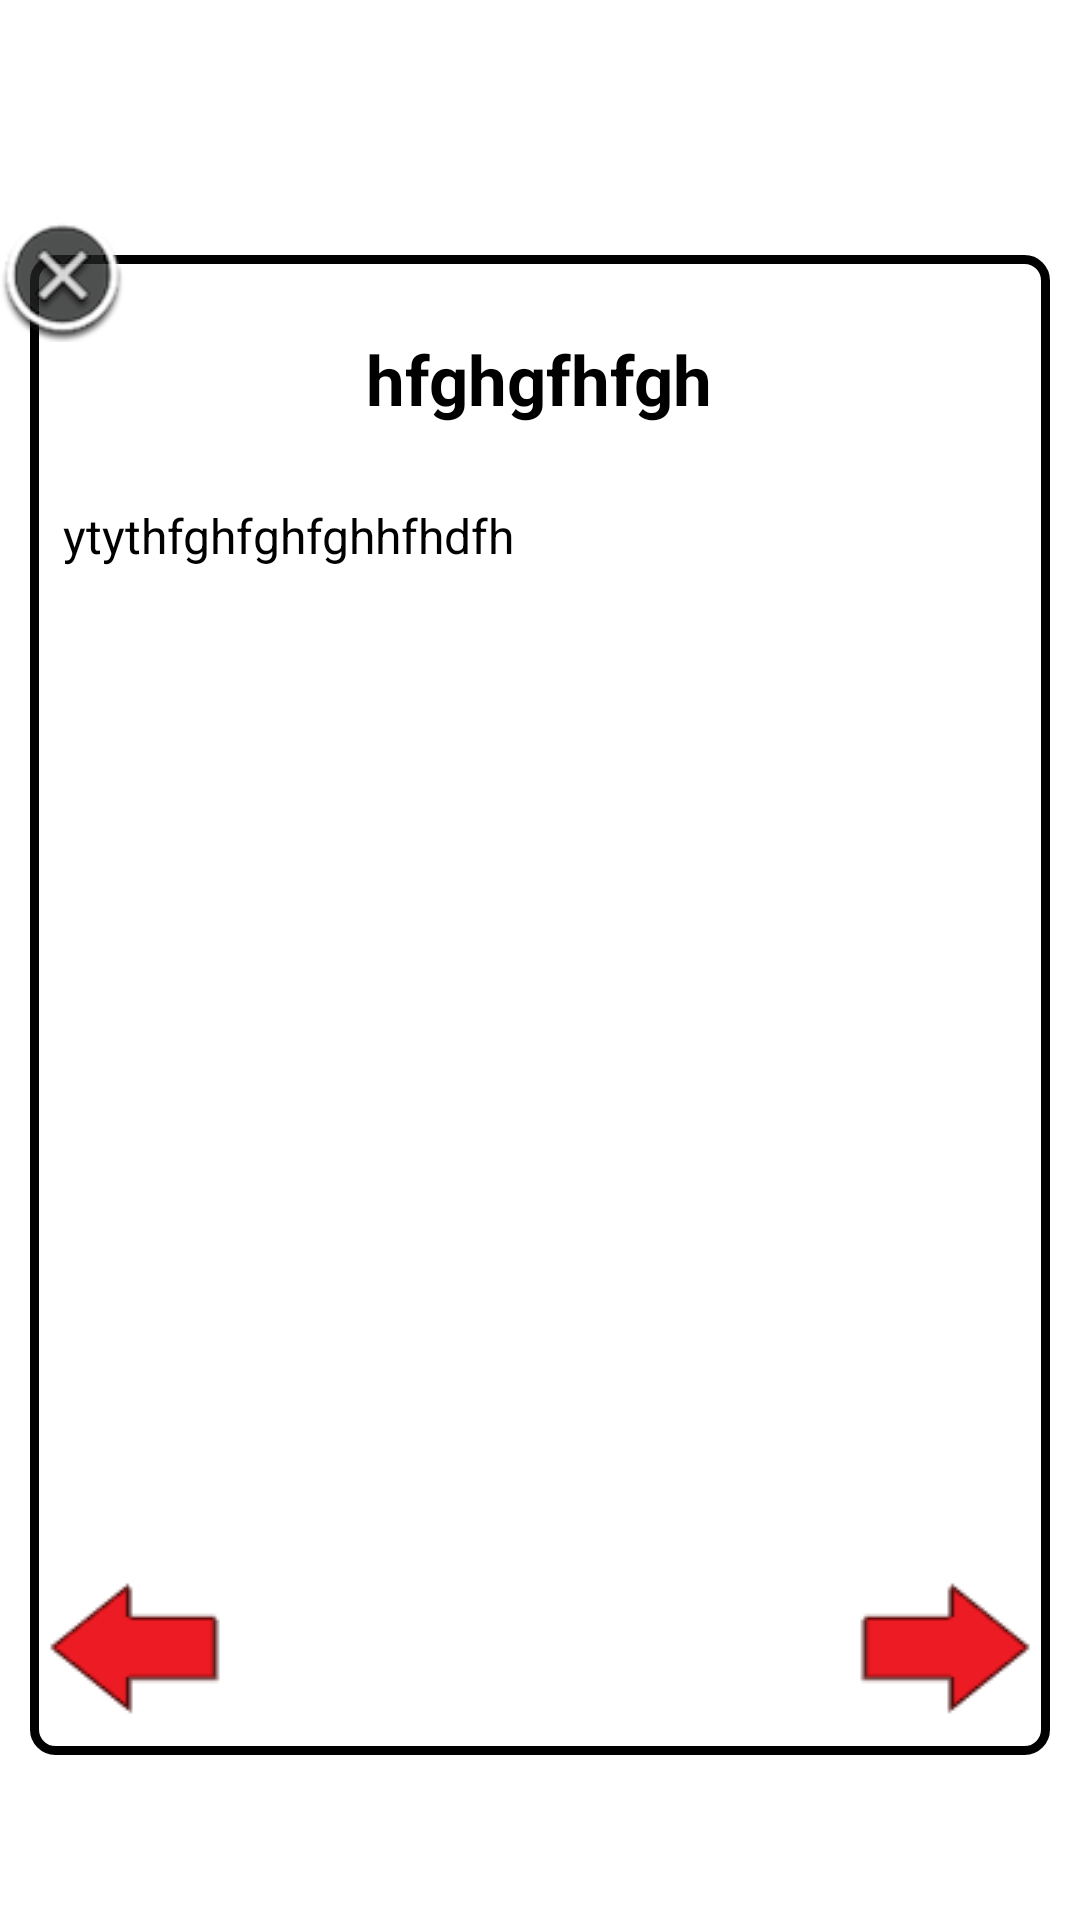

Icon bounding boxes for this 1080 x 1920 phone screenshot, format (x1, y1, x2, y2):
close: (12, 225, 112, 325)
next: (860, 1583, 1030, 1714)
prev: (50, 1583, 220, 1714)
